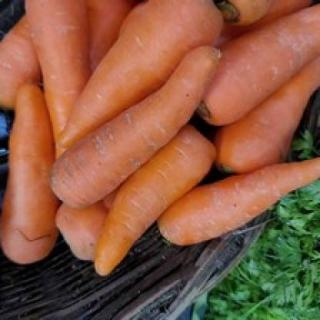Wortel: (48, 44, 222, 211), (92, 126, 218, 277), (156, 154, 320, 246)
